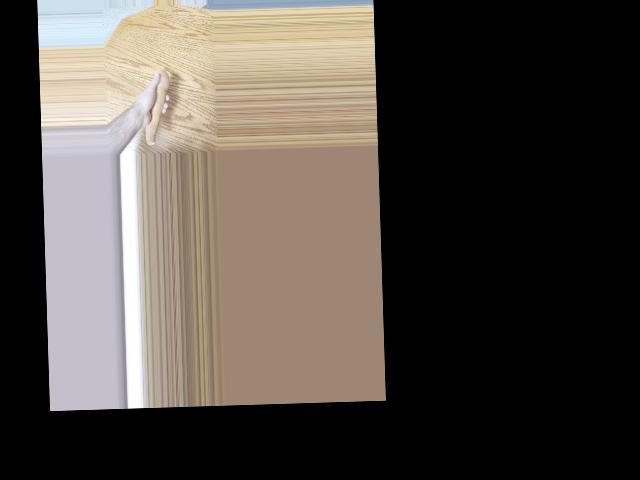sweet_potato: (142, 70, 171, 146)
